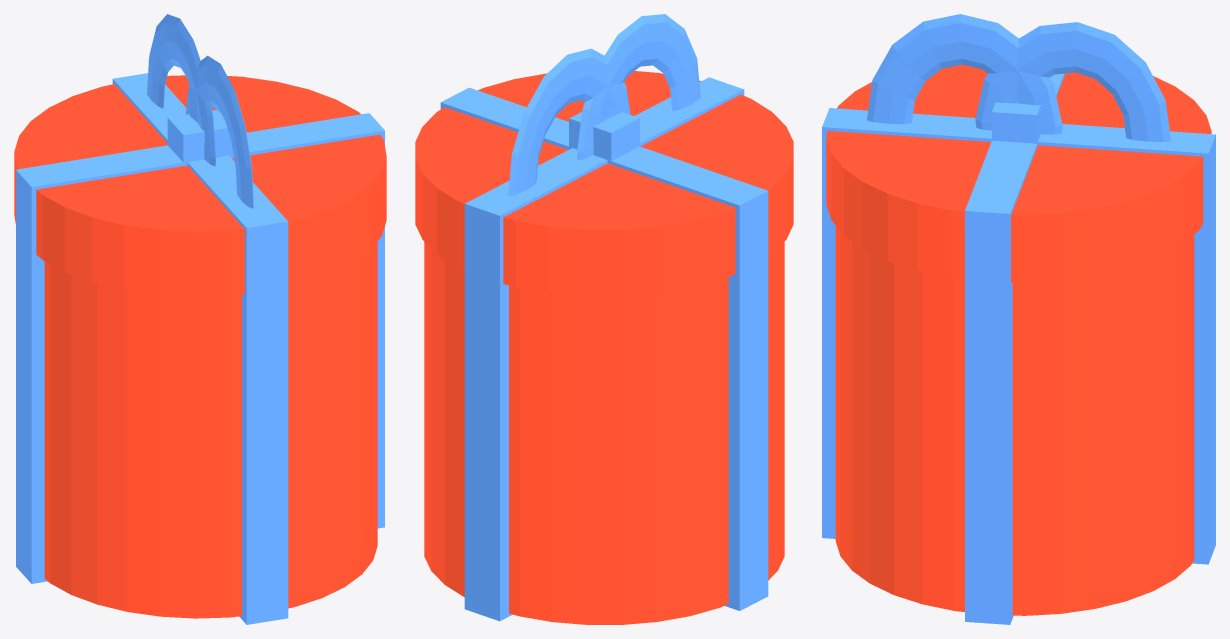
The model's file is Tmpl_Round_Root_224.glb.
3 views of the same model, side by side, from view 1: azimuth 30°, elevation 25°; view 2: azimuth 150°, elevation 25°; view 3: azimuth 270°, elevation 25° (orthographic). The views are drawn at different scales.
Parts seen in each view (by area): view 1: Tmpl_Round_Base.222, Tmpl_Round_Lid.222, Tmpl_Round_Ribbon_X.222, Tmpl_Round_Ribbon_Y.222, Tmpl_Round_BowL.222, Tmpl_Round_BowR.222, Tmpl_Round_BowKnot.222; view 2: Tmpl_Round_Base.222, Tmpl_Round_Lid.222, Tmpl_Round_Ribbon_X.222, Tmpl_Round_Ribbon_Y.222, Tmpl_Round_BowR.222, Tmpl_Round_BowL.222, Tmpl_Round_BowKnot.222; view 3: Tmpl_Round_Base.222, Tmpl_Round_Lid.222, Tmpl_Round_Ribbon_Y.222, Tmpl_Round_Ribbon_X.222, Tmpl_Round_BowR.222, Tmpl_Round_BowL.222, Tmpl_Round_BowKnot.222.
Part boxes in pixels (x1,y1,x2,y2): Tmpl_Round_Base.222: [44, 242, 377, 618]; Tmpl_Round_Lid.222: [14, 75, 386, 296]; Tmpl_Round_Ribbon_X.222: [112, 73, 288, 624]; Tmpl_Round_Ribbon_Y.222: [16, 113, 384, 583]; Tmpl_Round_BowL.222: [147, 14, 216, 166]; Tmpl_Round_BowR.222: [186, 55, 253, 208]; Tmpl_Round_BowKnot.222: [167, 110, 233, 165]; Tmpl_Round_Base.222: [424, 242, 784, 624]; Tmpl_Round_Lid.222: [415, 71, 793, 296]; Tmpl_Round_Ribbon_X.222: [464, 77, 744, 621]; Tmpl_Round_Ribbon_Y.222: [440, 87, 768, 610]; Tmpl_Round_BowR.222: [577, 14, 700, 160]; Tmpl_Round_BowL.222: [508, 48, 630, 196]; Tmpl_Round_BowKnot.222: [569, 112, 639, 164]; Tmpl_Round_Base.222: [835, 226, 1194, 615]; Tmpl_Round_Lid.222: [826, 64, 1211, 282]; Tmpl_Round_Ribbon_Y.222: [965, 73, 1065, 624]; Tmpl_Round_Ribbon_X.222: [822, 108, 1215, 564]; Tmpl_Round_BowR.222: [867, 14, 1062, 134]; Tmpl_Round_BowL.222: [975, 22, 1170, 141]; Tmpl_Round_BowKnot.222: [992, 102, 1040, 143].
Size of the model in its own units: 0.833 by 1.22 by 0.833.
